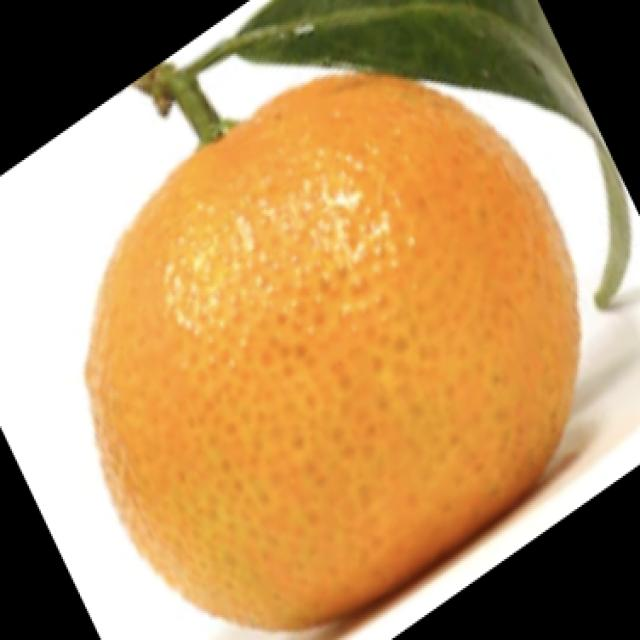matang: (87, 77, 581, 630)
